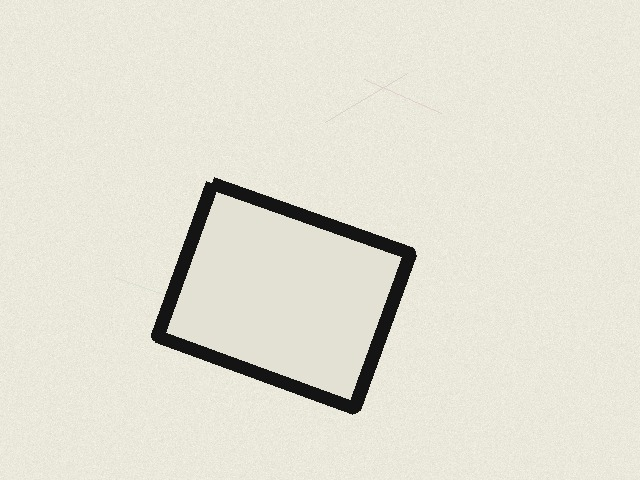parking_area: (157, 183, 410, 408)
